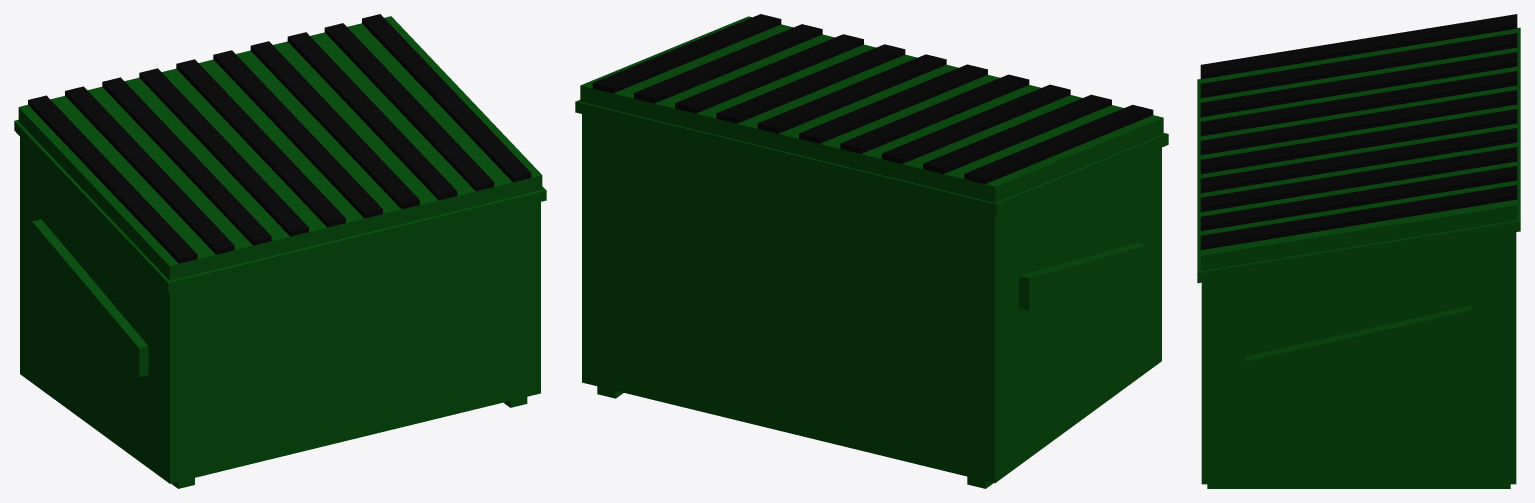
File: Dumpster.fbx
3 views of the same model, side by side, from view 1: azimuth 30°, elevation 25°; view 2: azimuth 150°, elevation 25°; view 3: azimuth 270°, elevation 25° (orthographic). The views are drawn at different scales.
Parts seen in each view (by area): view 1: Dumpster; view 2: Dumpster; view 3: Dumpster.
Boxes of the visible parts, bbox=[...] form: Dumpster: bbox=[14, 14, 546, 488]; Dumpster: bbox=[575, 14, 1168, 488]; Dumpster: bbox=[1197, 14, 1520, 488].
Bounding box in the file's own units: 293 × 202 × 201.
